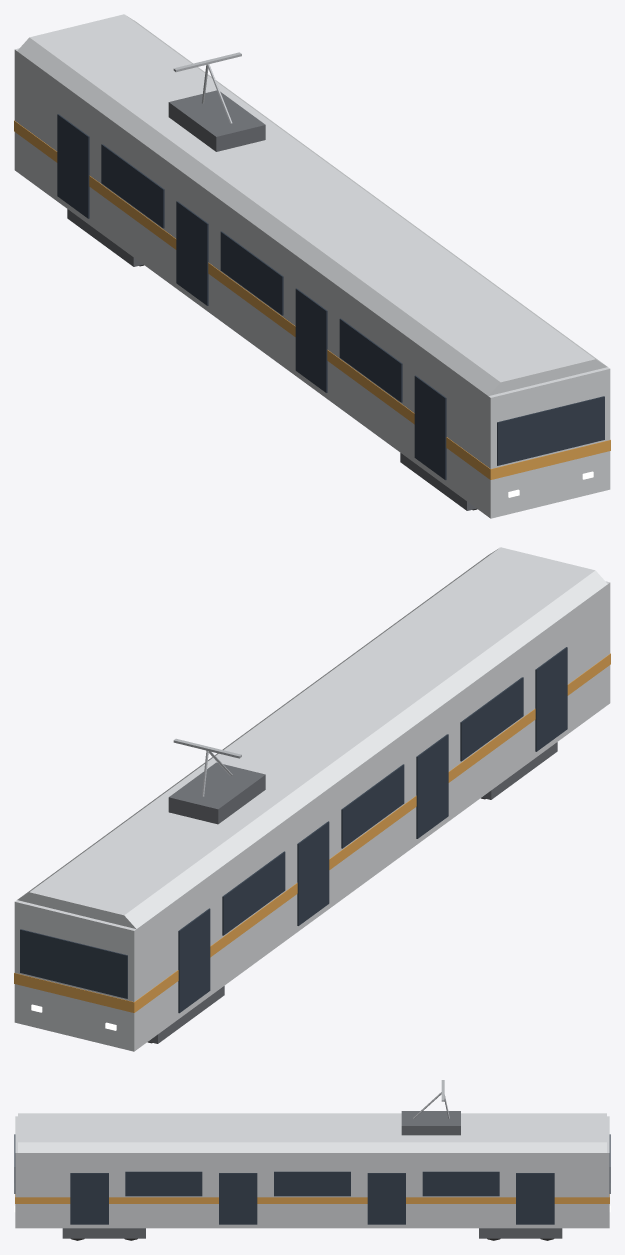
The model's file is commuter_train.glb.
The picture shows the model from 3 angles, top to bottom: view 1: azimuth 30°, elevation 25°; view 2: azimuth 150°, elevation 25°; view 3: azimuth 270°, elevation 25°; orthographic projection. The views are drawn at different scales.
Parts seen in each view (by area): view 1: commuter_train; view 2: commuter_train; view 3: commuter_train.
Boxes of the visible parts, box(x1,y1,x2,y2) form: commuter_train: box(14, 14, 610, 518); commuter_train: box(14, 547, 610, 1051); commuter_train: box(14, 1080, 610, 1240).
Bounding box in the file's own units: 2.96 × 5.23 × 20.08.
